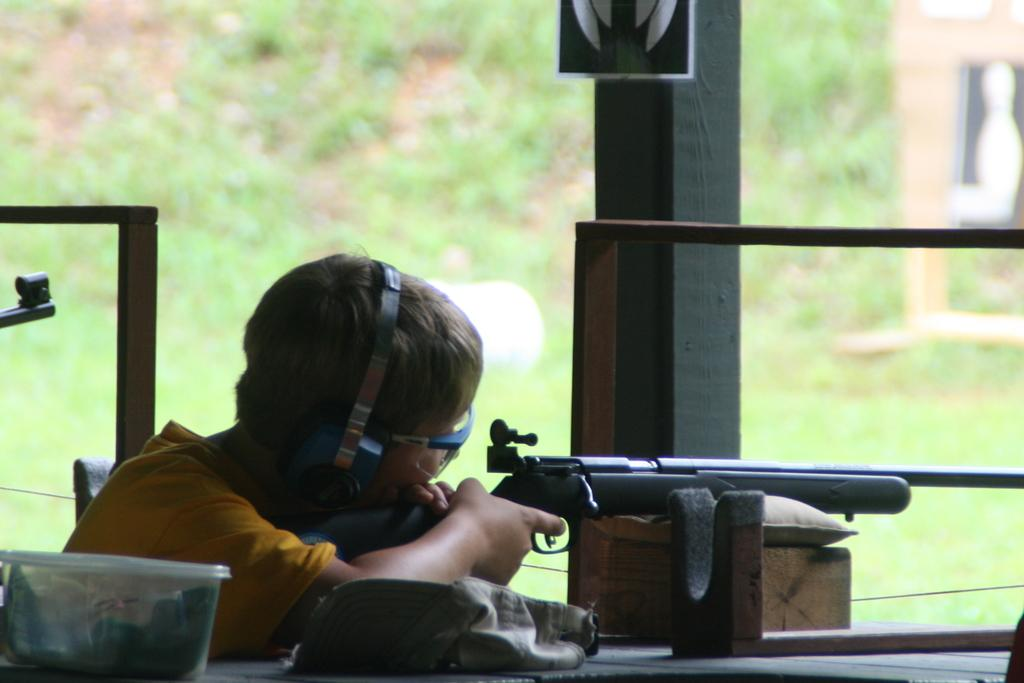Rifle: (474, 444, 934, 574)
